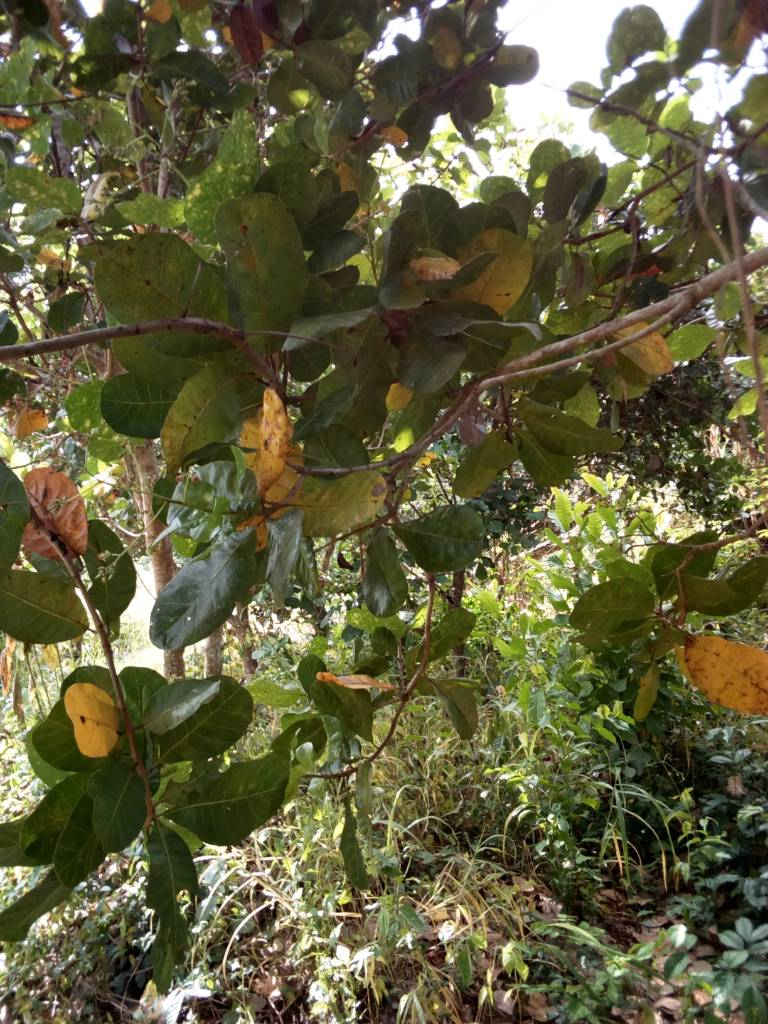Anthracnose: (82, 230, 244, 358), (158, 363, 254, 475), (674, 630, 768, 713), (282, 469, 383, 541)
